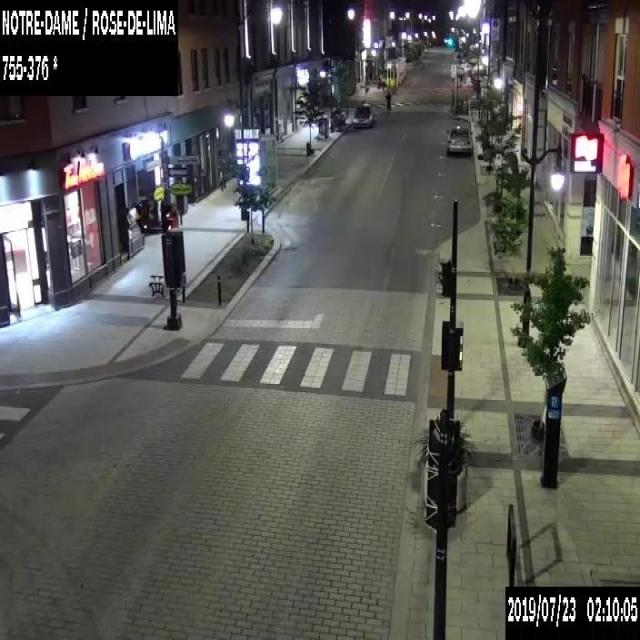pedestrian: (218, 157, 225, 191), (385, 88, 391, 111)
vehicle: (445, 121, 472, 154), (352, 103, 372, 127)
